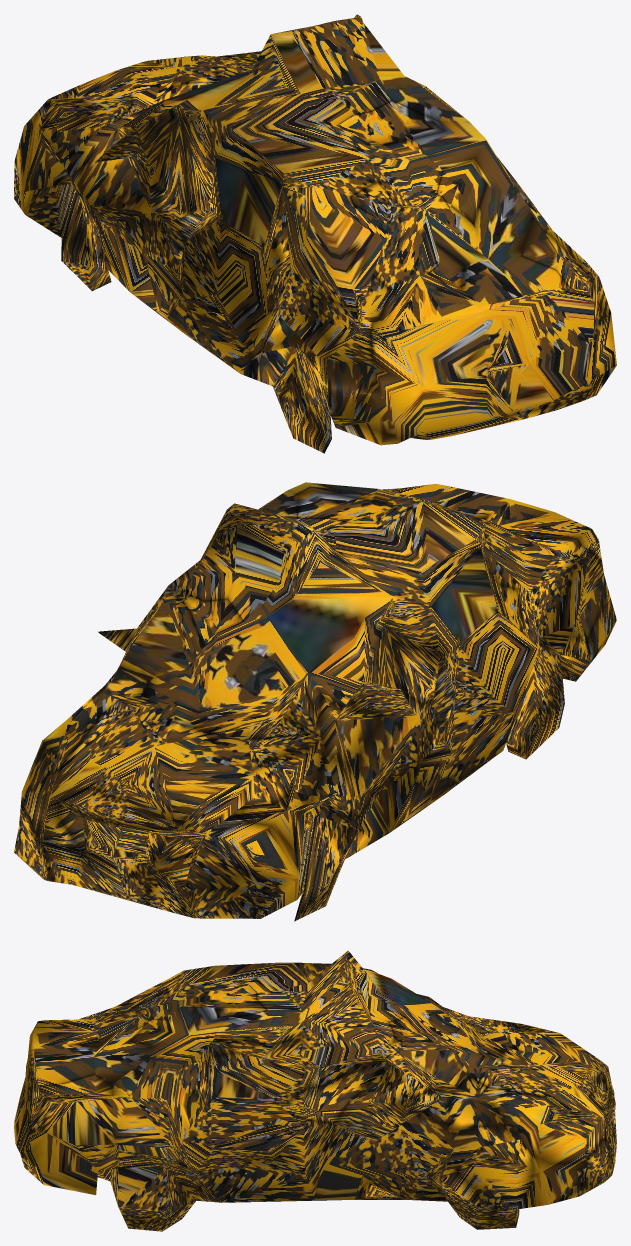
The model's file is taxi.far.glb.
3 views of the same model, one above another, from view 1: azimuth 30°, elevation 25°; view 2: azimuth 150°, elevation 25°; view 3: azimuth 270°, elevation 25° (orthographic). The views are drawn at different scales.
Size of the model in its own units: 0.8747 by 0.7814 by 1.88.
Materials: 1 (1 with a texture image).
